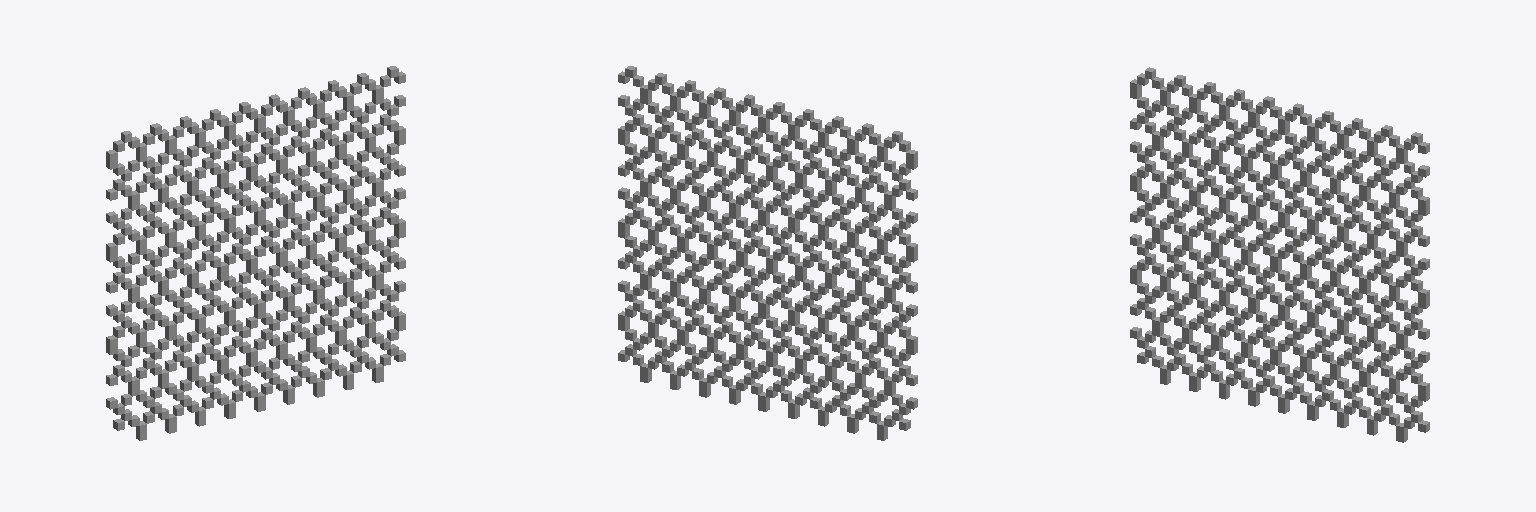
3 renders of one model, left to right at view 1: azimuth 30°, elevation 25°; view 2: azimuth 150°, elevation 25°; view 3: azimuth 330°, elevation 25°, orthographic.
Parts seen in each view (by area): view 1: object 1; view 2: object 1; view 3: object 1.
Part boxes in pixels (x1,y1,x2,y2): object 1: (106, 66, 405, 440); object 1: (618, 66, 917, 440); object 1: (1130, 67, 1429, 442).
Bounding box in the file's own units: 4 × 4 × 0.1.
1 materials, 1 textured.